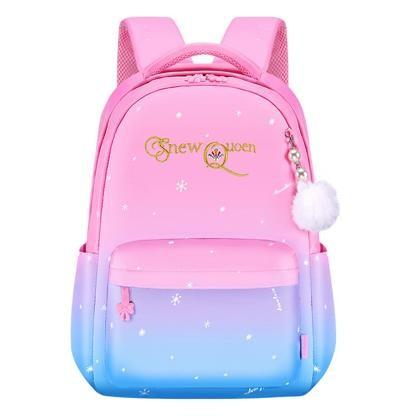not trash: (71, 12, 332, 397)
